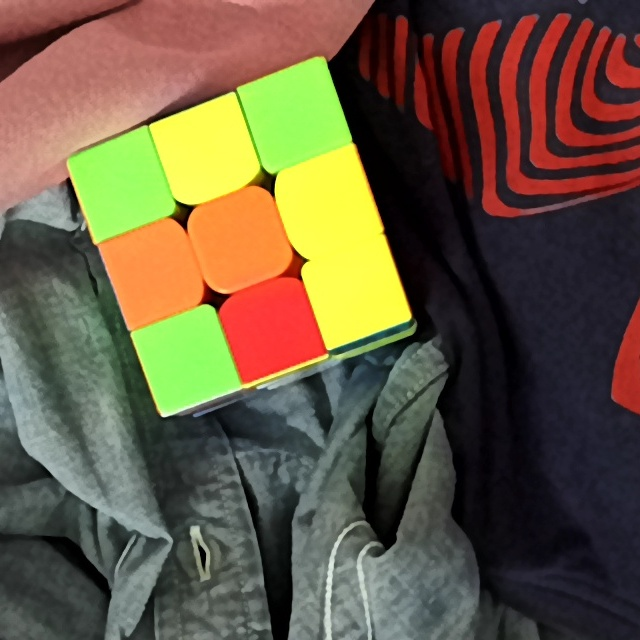tile: (261, 82, 331, 154), (172, 115, 240, 189), (238, 294, 304, 360), (207, 207, 271, 275), (124, 241, 186, 310), (325, 261, 389, 327), (90, 153, 151, 221), (154, 330, 218, 393), (299, 172, 359, 235)
